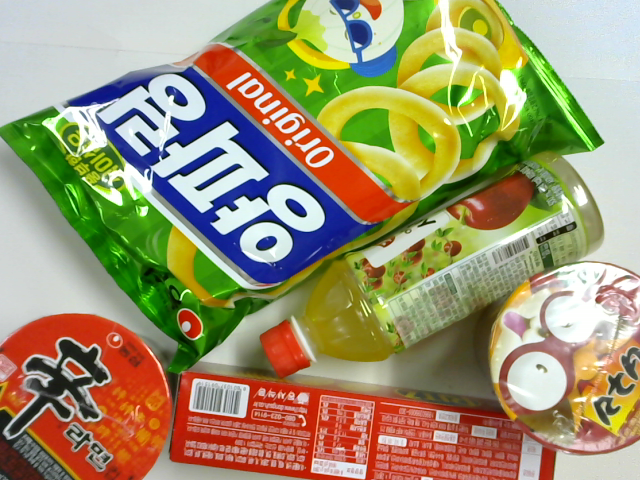Morning_Apple_500ml: (259, 154, 606, 380)
Oninon_Ring: (1, 1, 606, 376)
Raccoon: (476, 262, 640, 455)
Ritz_Cracker: (168, 363, 561, 480)
Sinramen_small: (1, 313, 173, 479)
